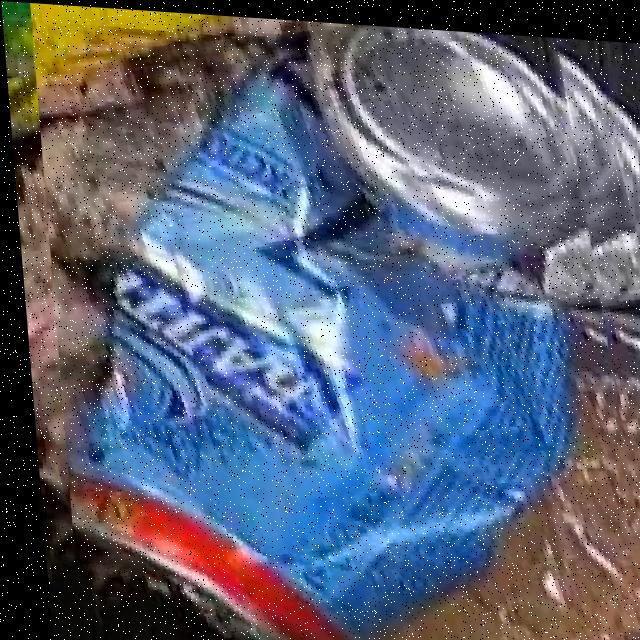litter: (60, 21, 590, 640)
